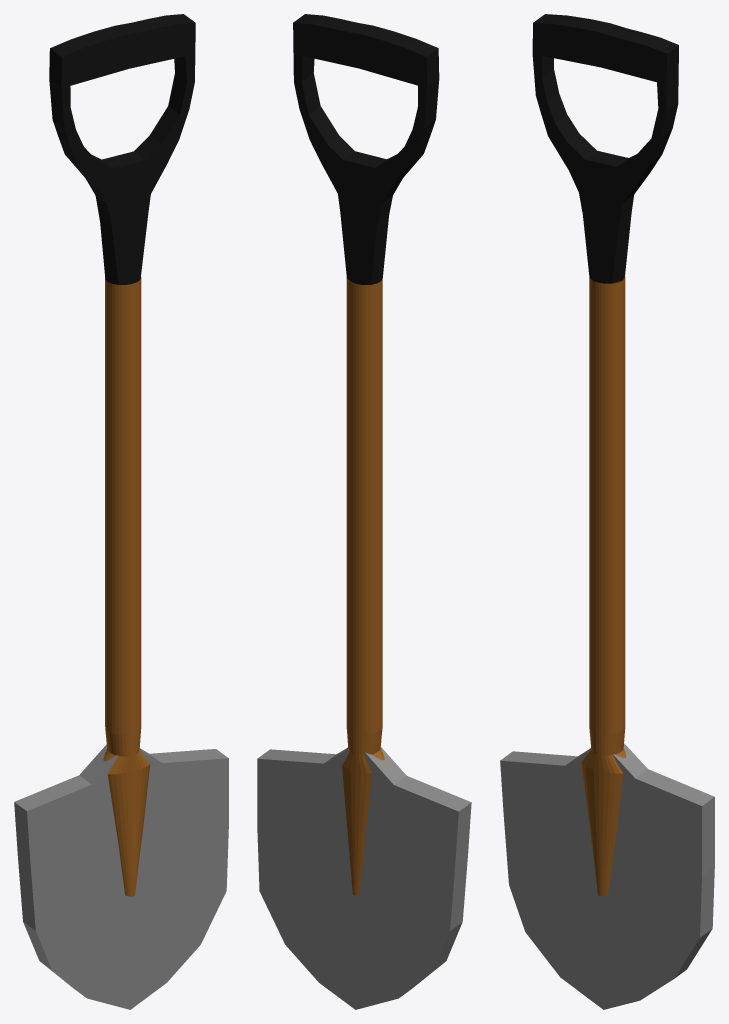
The model's file is SHOVEL.fbx.
The picture shows the model from 3 angles, left to right: view 1: azimuth 30°, elevation 25°; view 2: azimuth 150°, elevation 25°; view 3: azimuth 330°, elevation 25°; orthographic projection.
Visible parts, largest first — view 1: scoop, handle, top; view 2: scoop, handle, top; view 3: scoop, handle, top.
Boxes of the visible parts, x1,y1,x2,y2 form: scoop: (14, 744, 228, 1009); handle: (103, 277, 150, 896); top: (49, 14, 195, 284); scoop: (257, 747, 471, 1009); handle: (342, 278, 384, 895); top: (293, 14, 439, 284); scoop: (500, 743, 714, 1009); handle: (581, 276, 626, 896); top: (532, 14, 678, 283).
Size of the model in its own units: 101 by 466 by 15.24.
